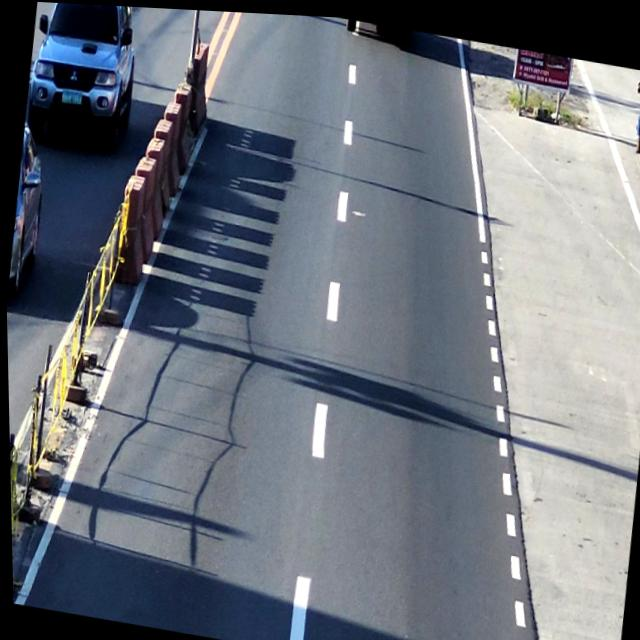License-Plate: (59, 87, 85, 105)
